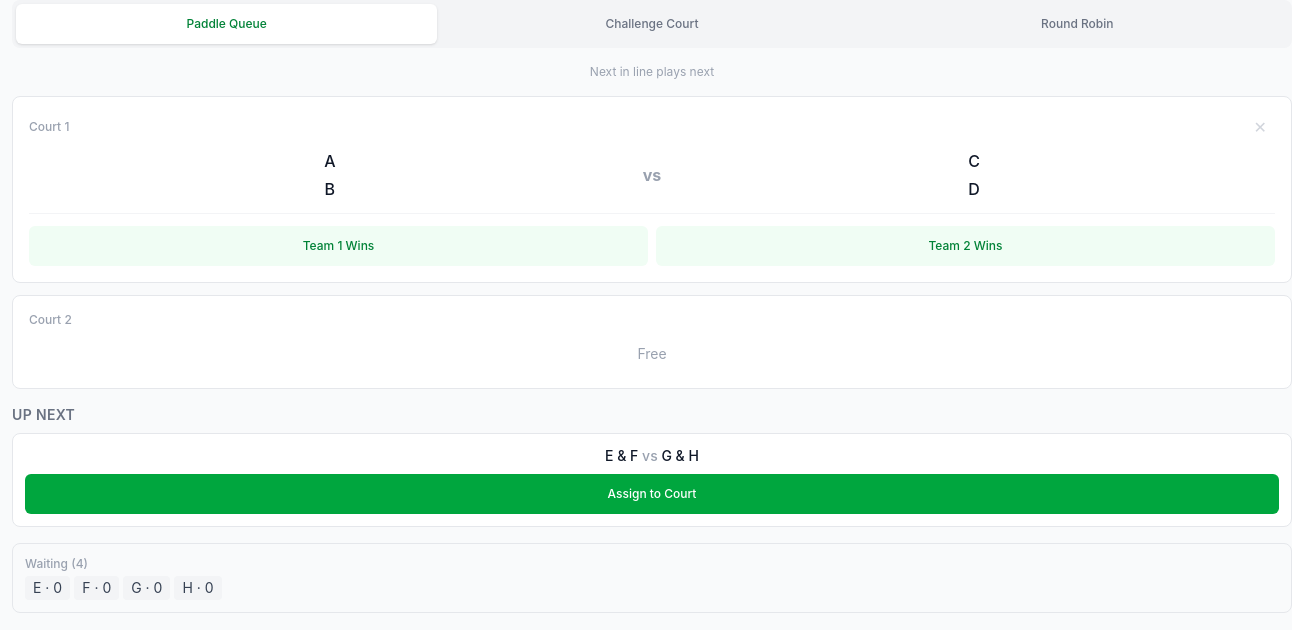
MatchupsTab suggestions › auto-assigns to the first free court when earlier courts are busy
This screenshot has width=1292, height=630.
Click the button "Assign to Court": (652, 494) 25,474 -> 1279,514
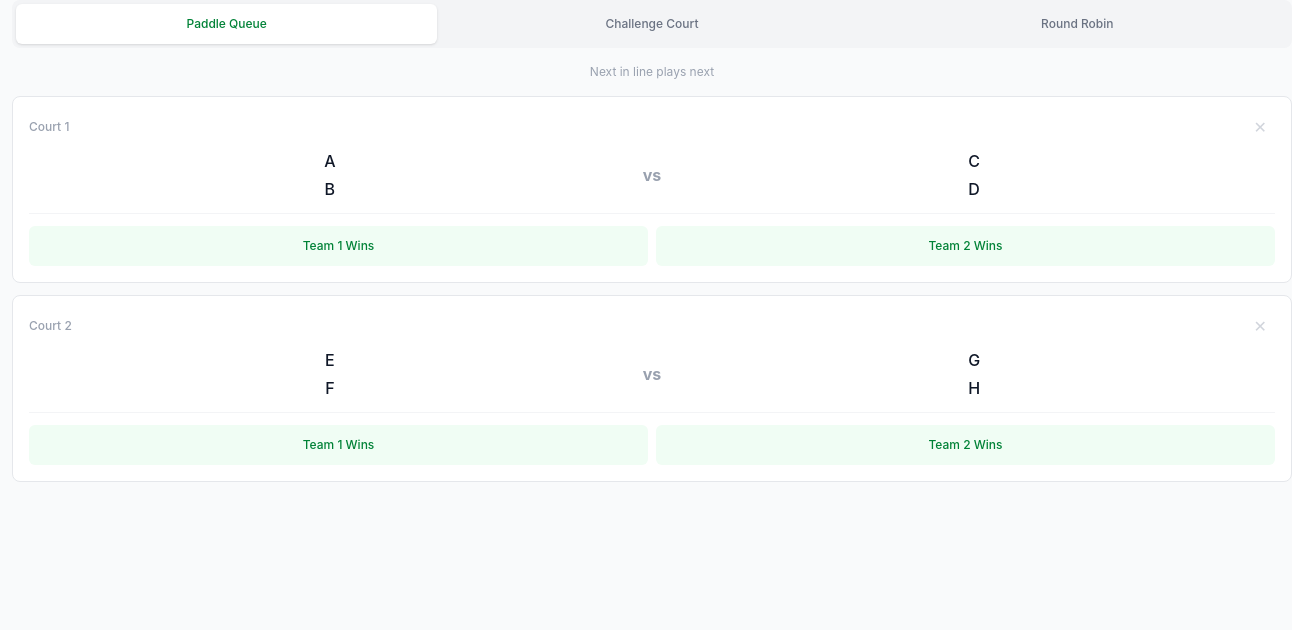
Result: the 2nd button "Team 1 Wins" is shown at 29,425 -> 648,465
